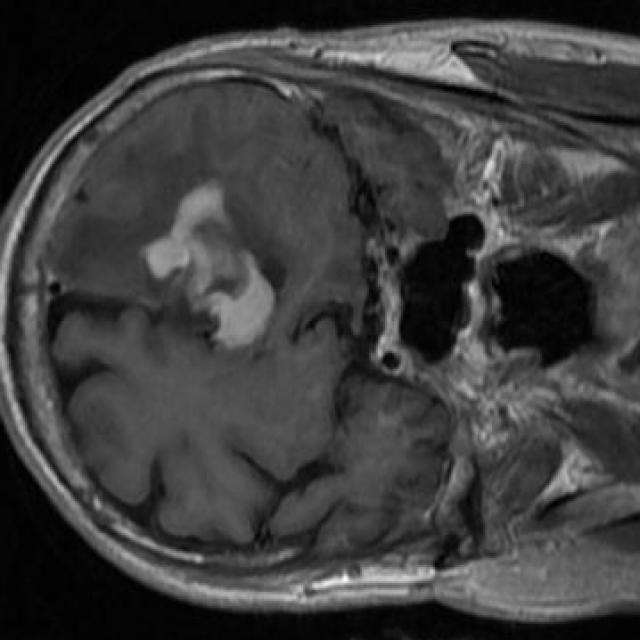glioma: (61, 105, 296, 349)
